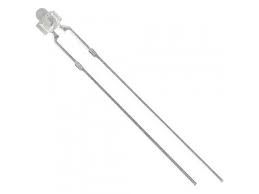LED: (30, 6, 236, 194)
